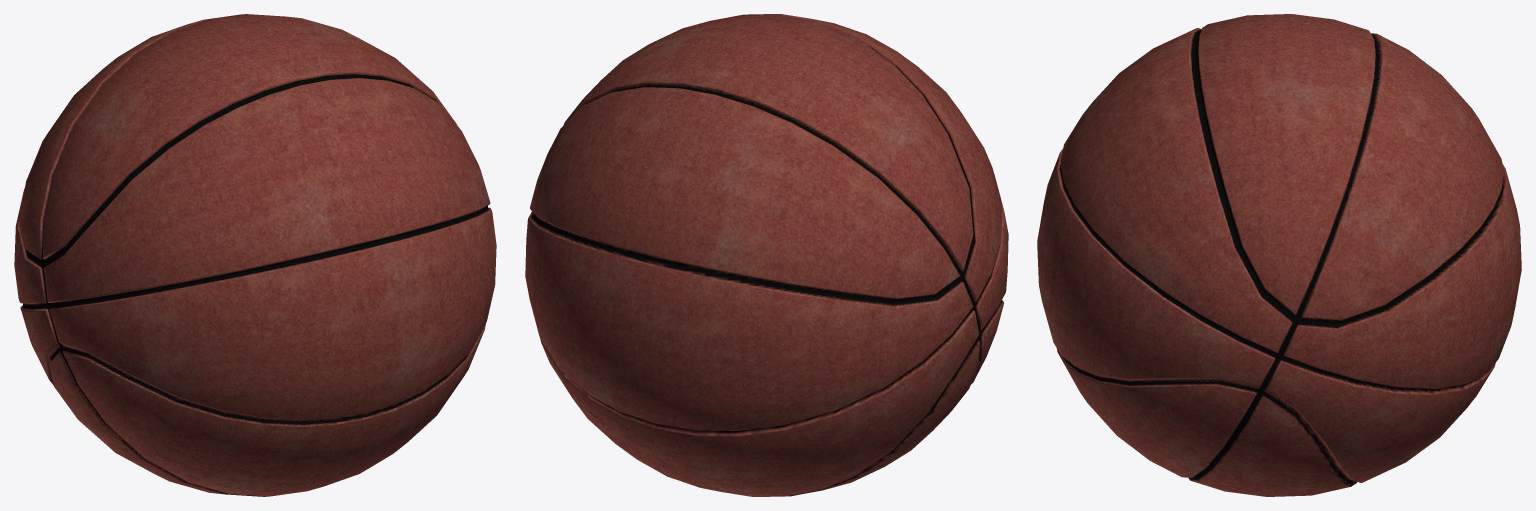
Rendered from Basketball.fbx.
3 views of the same model, side by side, from view 1: azimuth 30°, elevation 25°; view 2: azimuth 150°, elevation 25°; view 3: azimuth 270°, elevation 25° (orthographic).
Parts seen in each view (by area): view 1: Basketball export; view 2: Basketball export; view 3: Basketball export.
Part boxes in pixels (bbox=[...]): Basketball export: bbox=[14, 14, 496, 496]; Basketball export: bbox=[525, 14, 1008, 496]; Basketball export: bbox=[1037, 14, 1521, 496].
Bounding box in the file's own units: 22.89 × 22.93 × 22.93.
